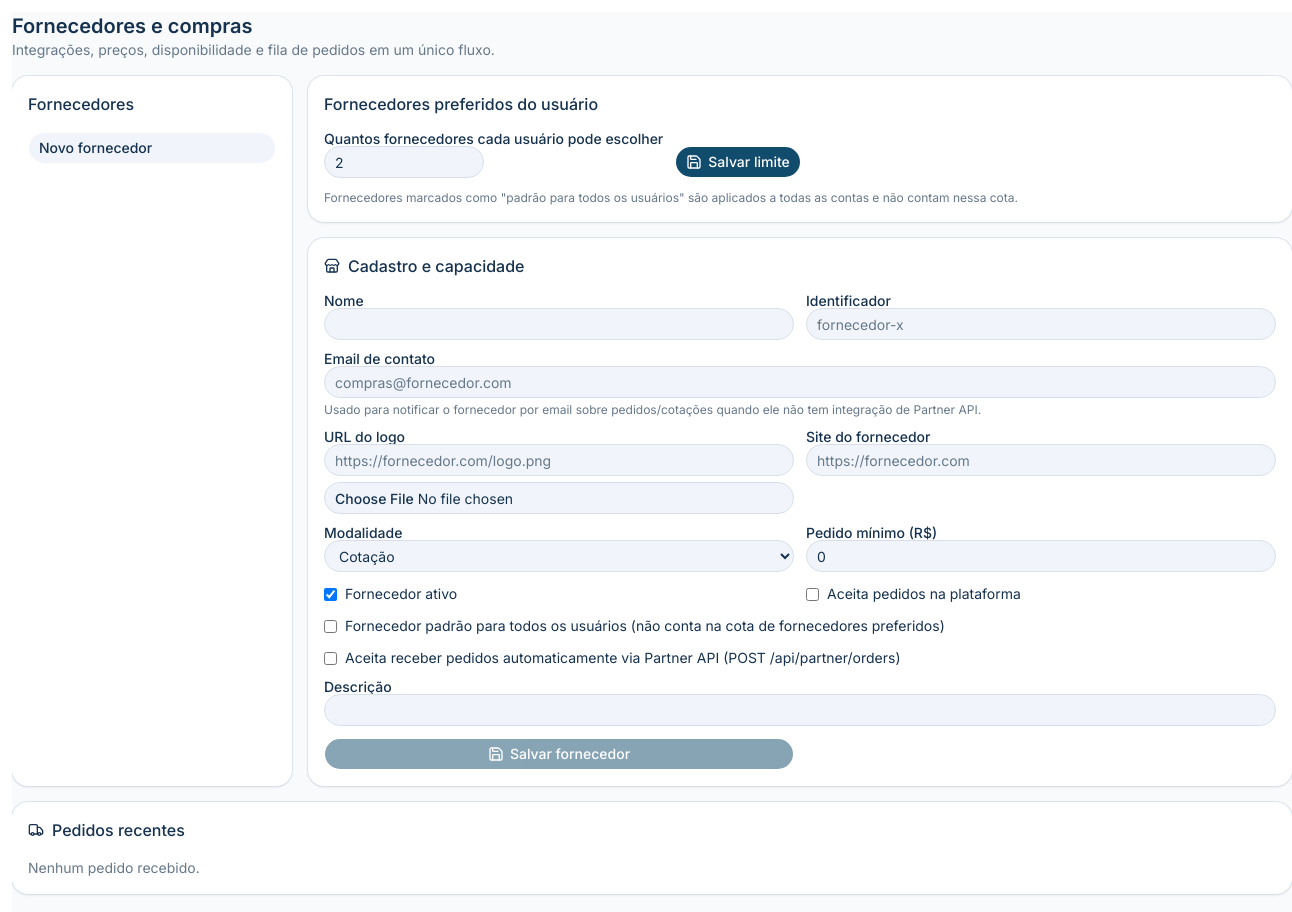
Scenario: SuppliersEditor: saving a supplier › inserts a new supplier and selects it after saving
This screenshot has width=1292, height=912.
Check: the heading "Fornecedores e compras" is shown, box [12,14,252,38]
Type "Nova Distribuidora" into the field below "Nome". click: (559, 324)
box: [324,308,794,340]
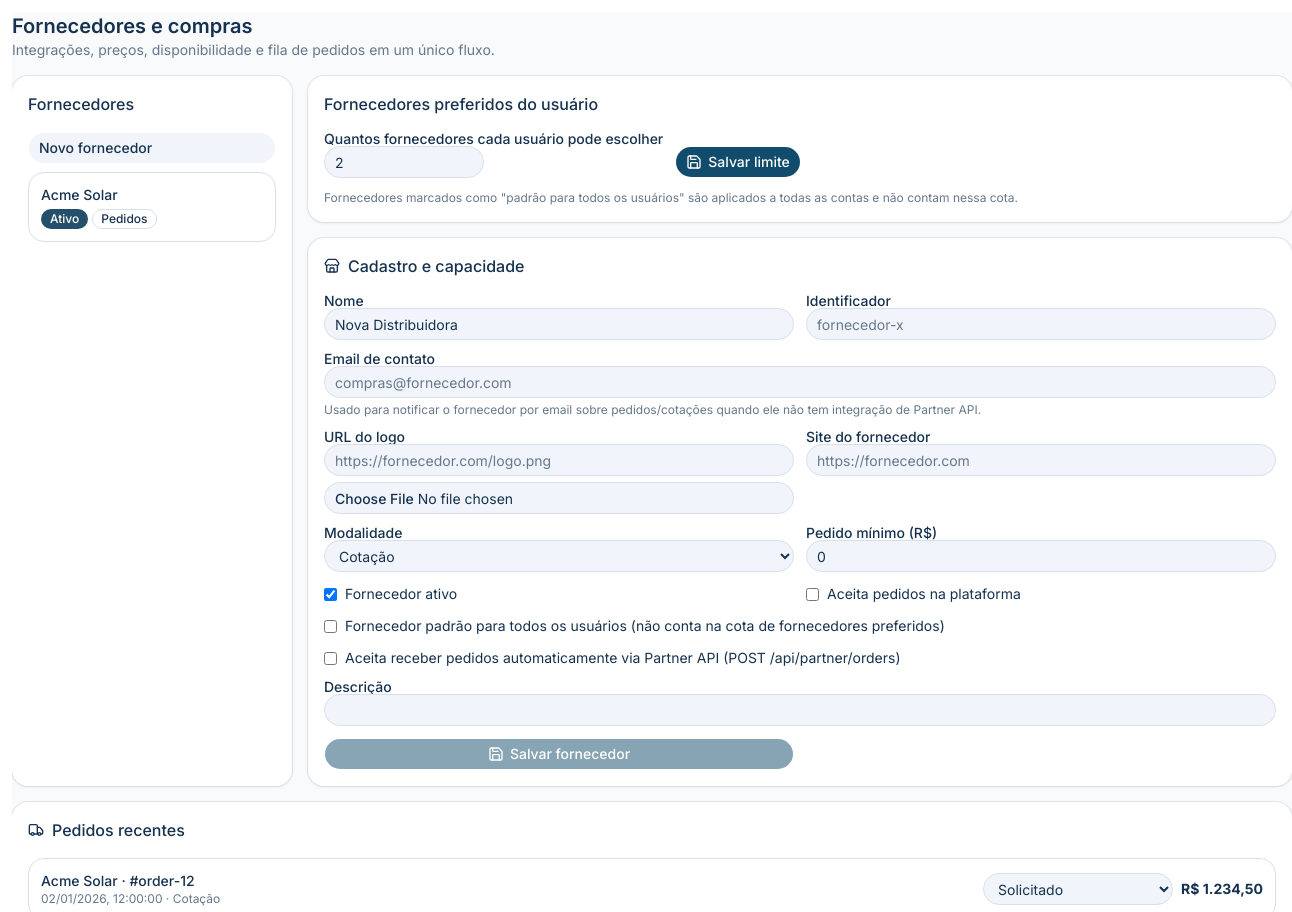
Type "Nova Distribuidora!!" into the field with placeholder "fornecedor-x". click: (1041, 324)
box: [806,308,1276,340]
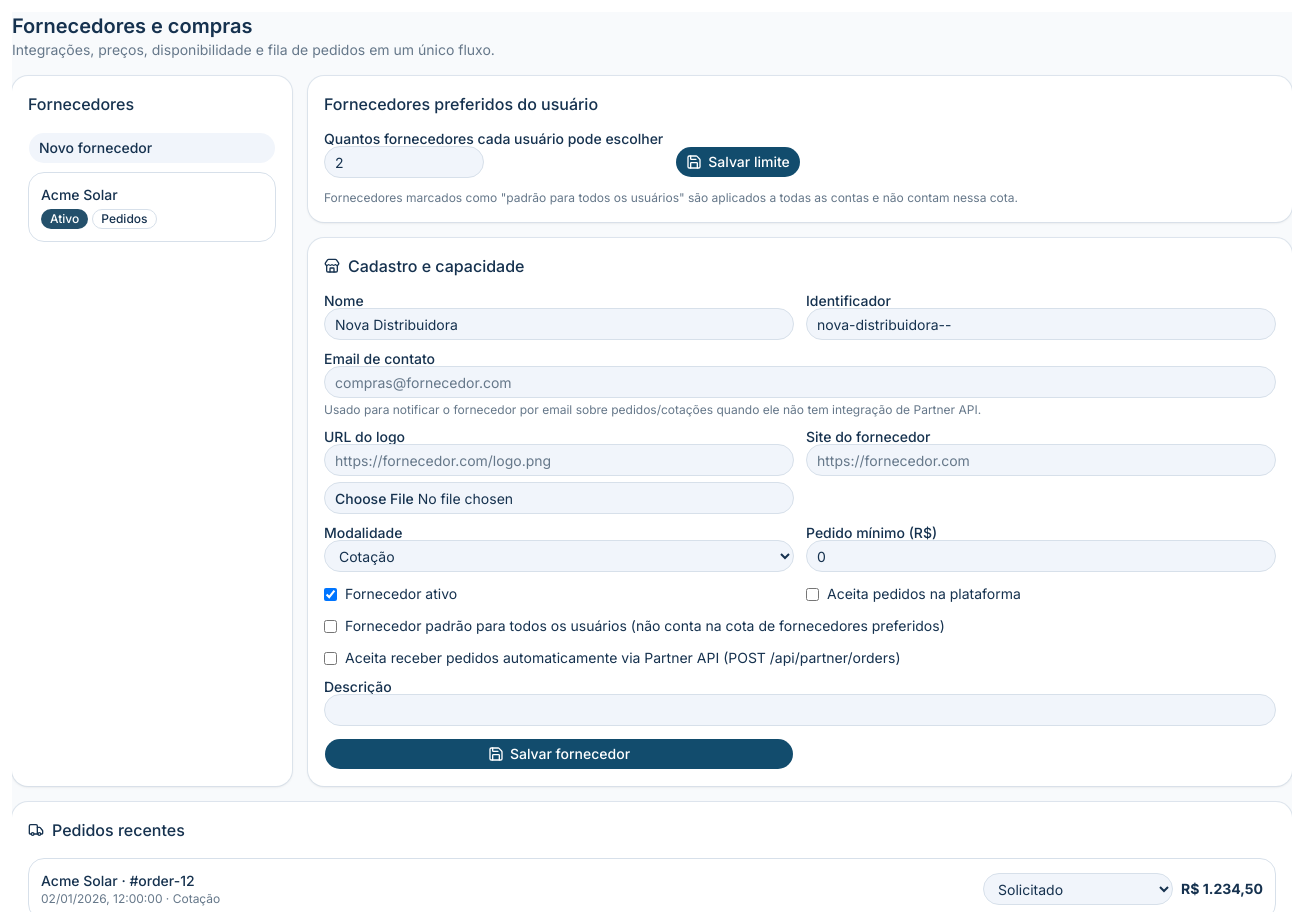
Check: the field below "Identificador" holds "nova-distribuidora--", box [806,308,1276,340]
Click the button "Salvar fornecedor". click: (559, 754)
box: [324,738,794,770]
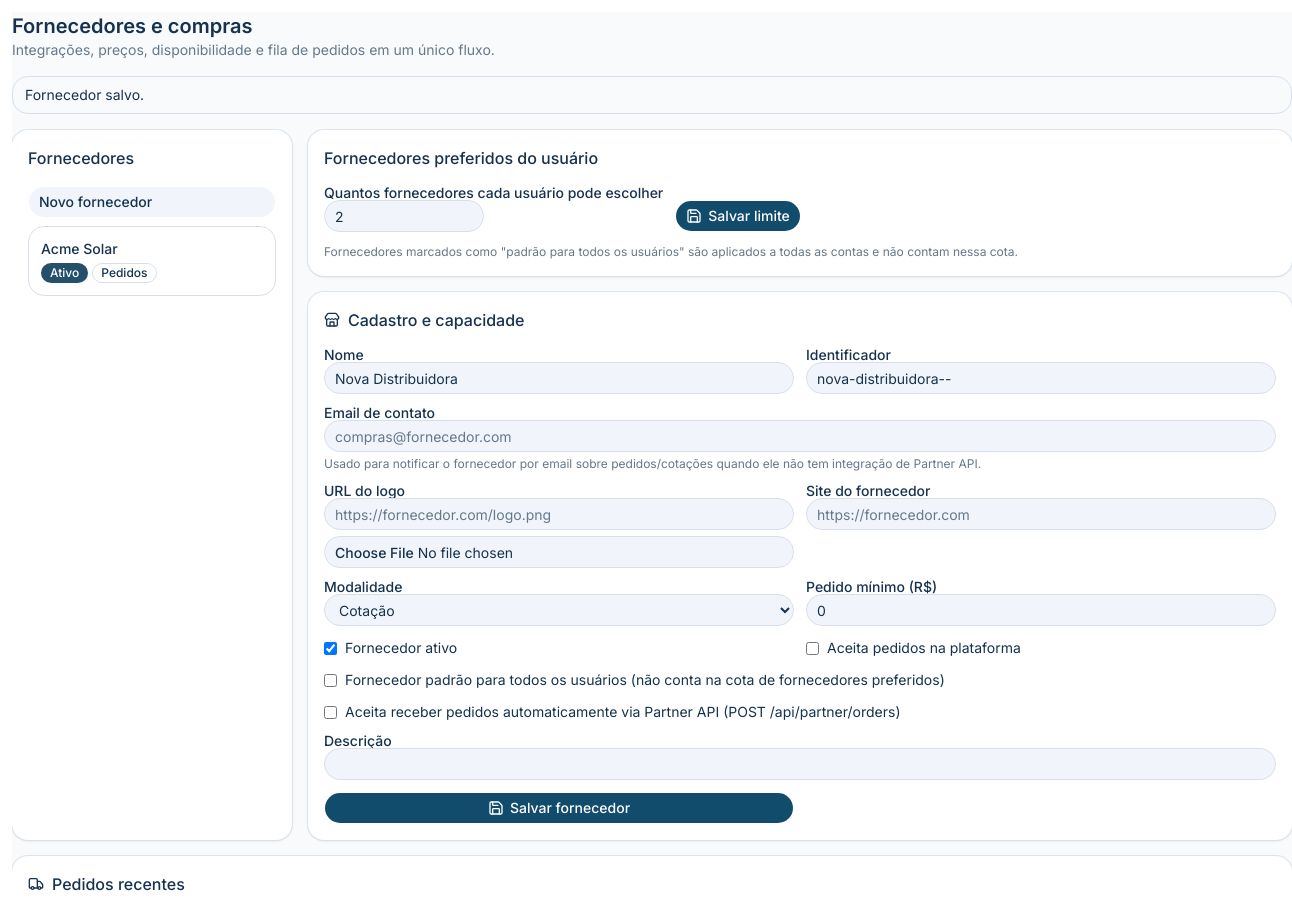
Check: the message reads "Fornecedor salvo.", box [25,86,144,103]
